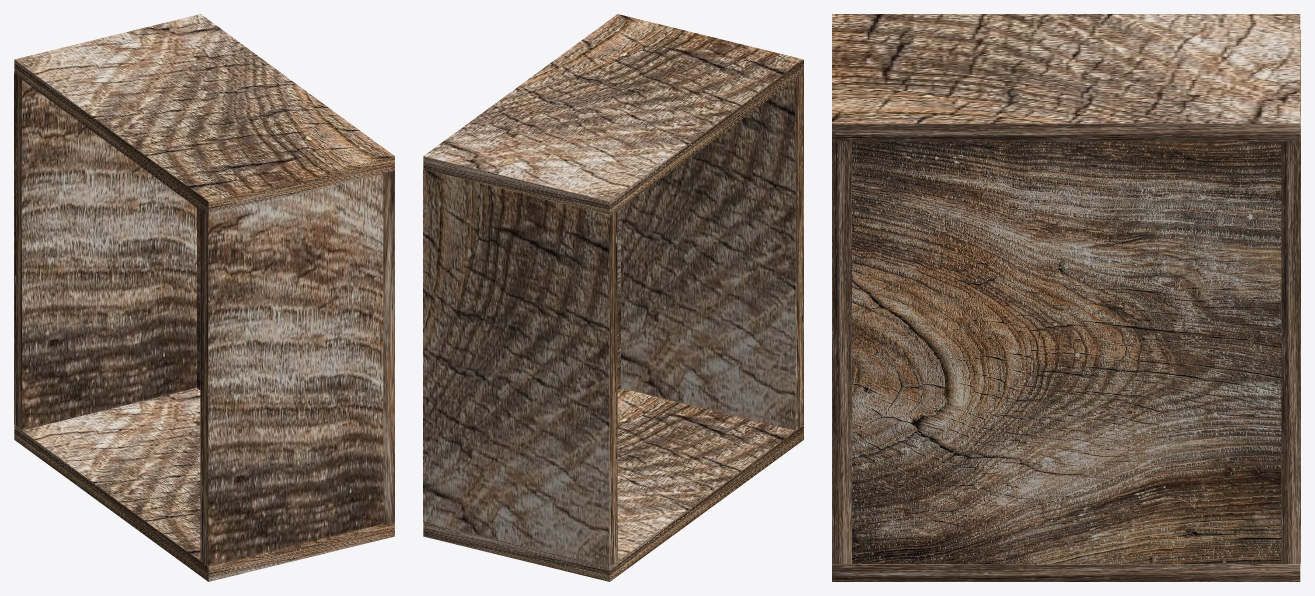
File: LVL_Electrique.fbx
3 views of the same model, side by side, from view 1: azimuth 30°, elevation 25°; view 2: azimuth 150°, elevation 25°; view 3: azimuth 270°, elevation 25° (orthographic). The views are drawn at different scales.
Parts seen in each view (by area): view 1: Box; view 2: Box; view 3: Box.
Boxes of the visible parts, left/top/right/bottom form: Box: left=14, top=14, right=394, bottom=581; Box: left=423, top=14, right=803, bottom=581; Box: left=832, top=14, right=1300, bottom=581.
Size of the model in its own units: 13.24 by 25.8 by 23.92.
1 material, 1 textured.
